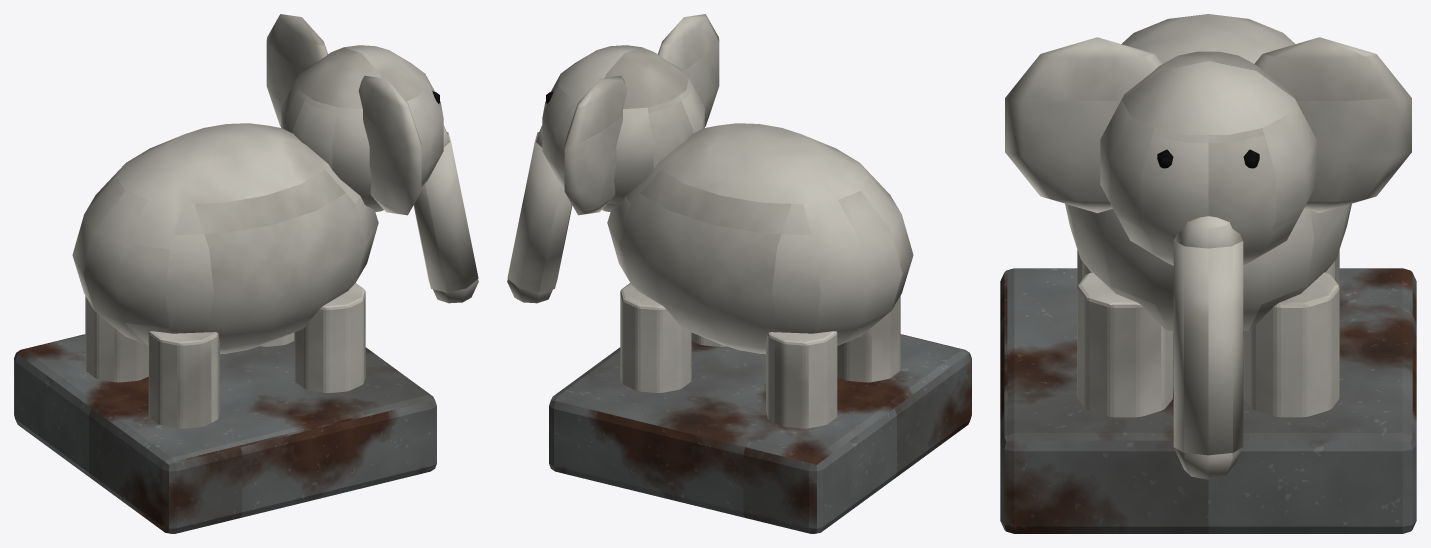
File: P03_animal_statue_v1_elephant.glb
3 views of the same model, side by side, from view 1: azimuth 30°, elevation 25°; view 2: azimuth 150°, elevation 25°; view 3: azimuth 270°, elevation 25° (orthographic). The views are drawn at different scales.
Parts seen in each view (by area): view 1: P03_animal_statue_v1_elephant; view 2: P03_animal_statue_v1_elephant; view 3: P03_animal_statue_v1_elephant.
Boxes of the visible parts, x1=… form: P03_animal_statue_v1_elephant: x1=14, y1=14, x2=478, y2=533; P03_animal_statue_v1_elephant: x1=507, y1=14, x2=971, y2=533; P03_animal_statue_v1_elephant: x1=1000, y1=14, x2=1416, y2=533.
Size of the model in its own units: 0.6 by 0.5429 by 0.4176.
3 materials, 3 textured.
